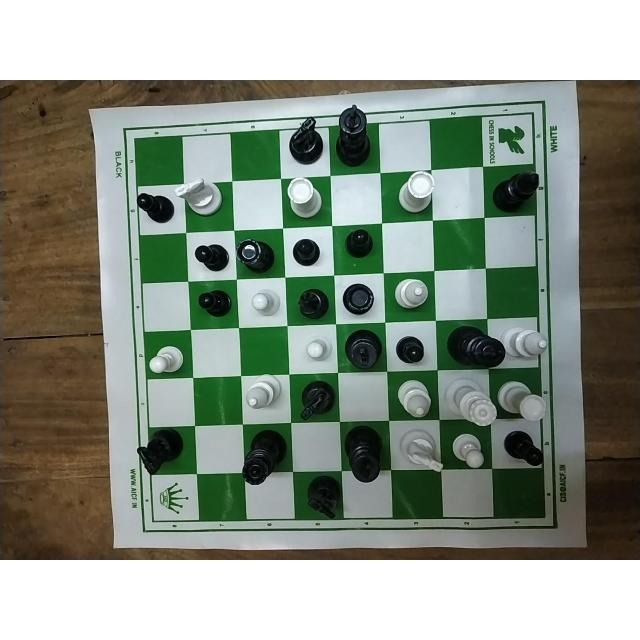black-bishop: (492, 170, 540, 211), (296, 285, 330, 319)
black-king: (445, 325, 507, 367), (333, 103, 373, 165), (342, 424, 382, 484), (344, 328, 382, 371)
black-knight: (133, 425, 185, 472), (288, 115, 324, 166), (306, 474, 342, 520), (298, 380, 337, 421)
black-pawn: (502, 430, 546, 467), (136, 192, 174, 224), (392, 335, 430, 365), (192, 244, 230, 272), (196, 289, 232, 317), (344, 230, 376, 260), (291, 238, 320, 266)
black-queen: (240, 431, 288, 489)
black-rook: (235, 236, 274, 274), (341, 282, 376, 316)
white-bishop: (394, 376, 433, 419), (501, 325, 547, 359), (243, 375, 283, 411), (392, 276, 428, 310)
white-knight: (396, 427, 444, 471), (175, 176, 225, 218)
white-pawn: (449, 432, 487, 466), (149, 341, 183, 375), (248, 283, 280, 318), (303, 335, 334, 363)
white-queen: (444, 377, 497, 426)
white-rook: (496, 379, 546, 421), (395, 170, 434, 216), (286, 177, 322, 218)
